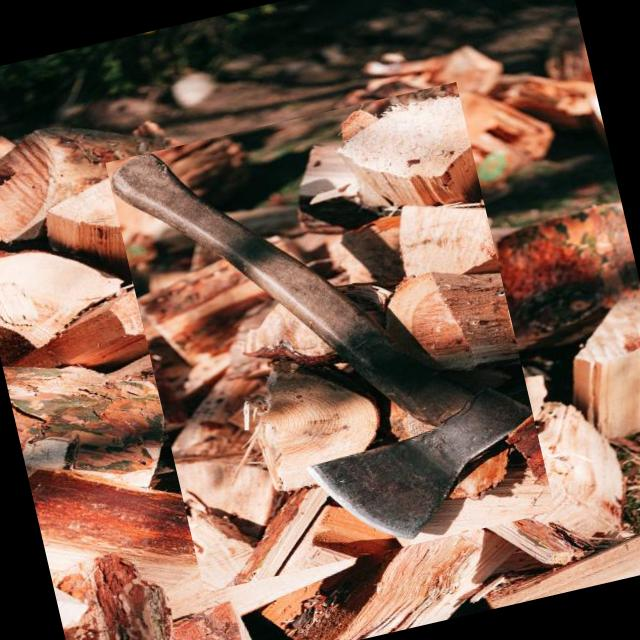Axe: (111, 154, 531, 546)
